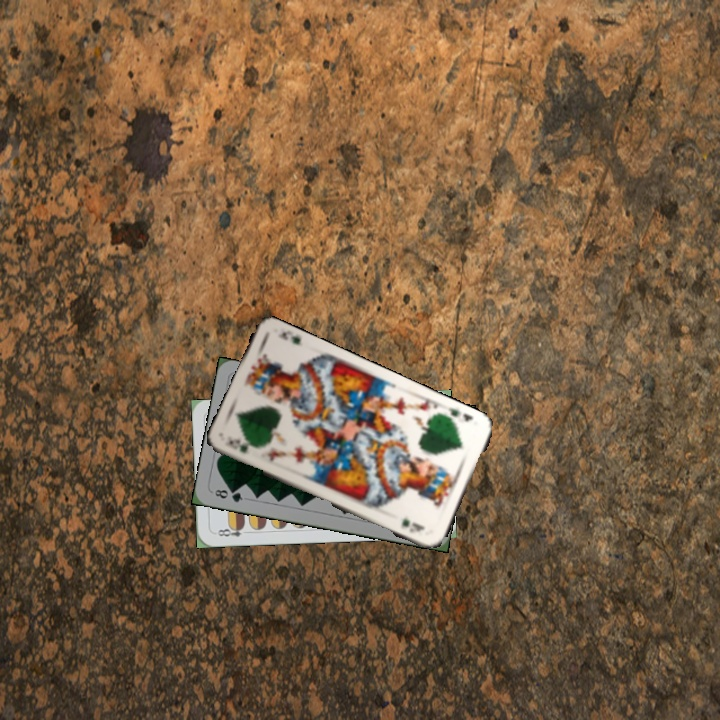E8: (211, 522, 252, 539)
G8: (211, 485, 246, 505)
GK: (444, 403, 475, 425), (225, 436, 251, 456)
